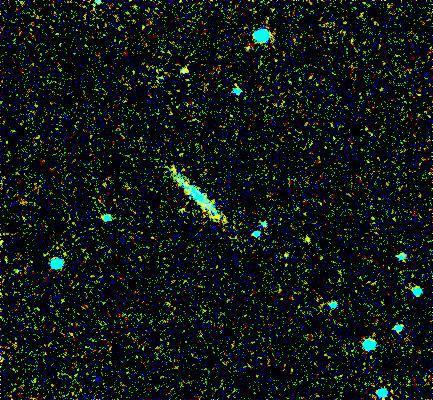star: (292, 221, 322, 251)
